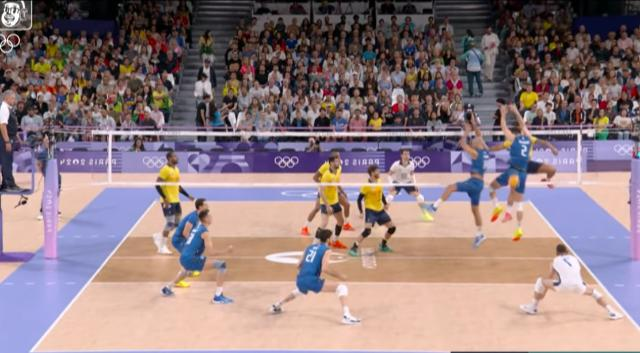Levantador: (358, 164, 392, 250)
Libero: (522, 240, 622, 318), (389, 148, 425, 210)
bola: (508, 175, 524, 193)
